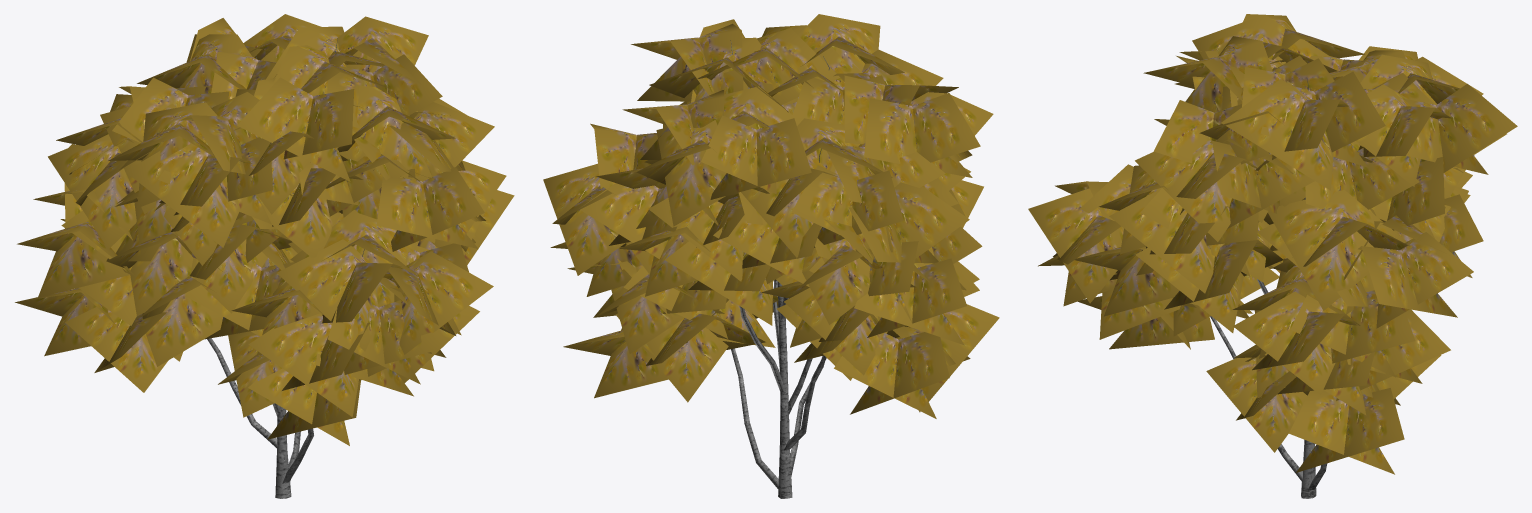
Rendered from Betula_Papyrifera_Autumn_Young.glb.
3 renders of one model, left to right at view 1: azimuth 30°, elevation 25°; view 2: azimuth 150°, elevation 25°; view 3: azimuth 270°, elevation 25°, orthographic.
Visible parts, largest first — view 1: Betula_Papyrifera_Autumn_Young__LOD3; view 2: Betula_Papyrifera_Autumn_Young__LOD3; view 3: Betula_Papyrifera_Autumn_Young__LOD3.
Boxes of the visible parts, x1,y1,x2,y2 form: Betula_Papyrifera_Autumn_Young__LOD3: (15, 14, 514, 498); Betula_Papyrifera_Autumn_Young__LOD3: (543, 14, 999, 498); Betula_Papyrifera_Autumn_Young__LOD3: (1028, 14, 1517, 498).
Size of the model in its own units: 12.5 by 11.69 by 11.65.
Materials: 2 (2 with a texture image).
